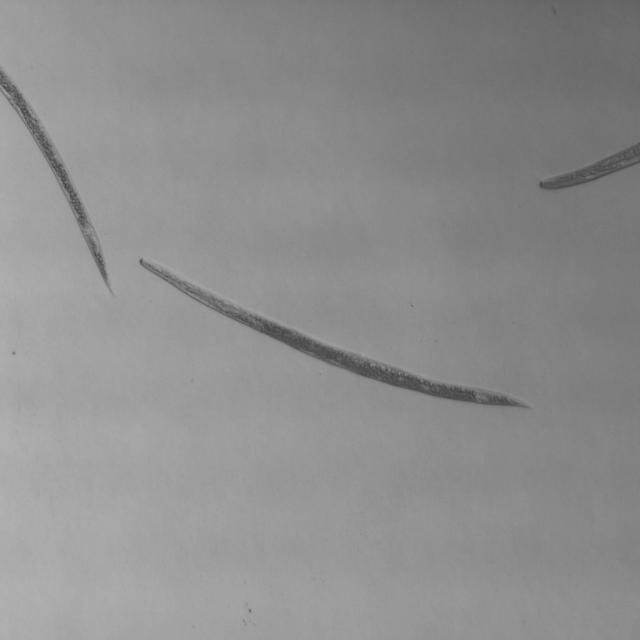Radopholus: (134, 250, 540, 418)
